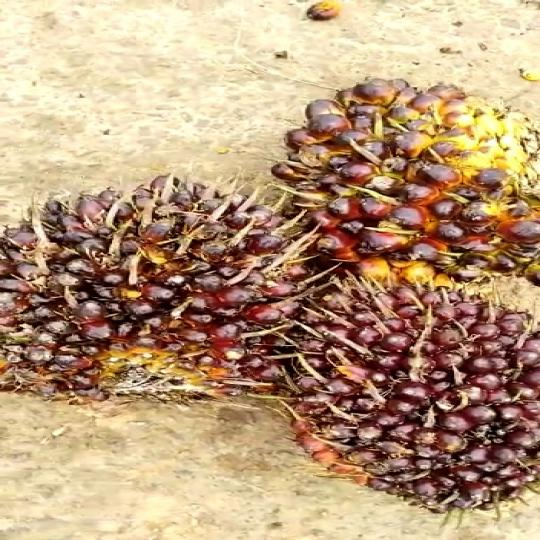kurang masak: (0, 149, 316, 411), (209, 73, 540, 310), (272, 262, 540, 526)
